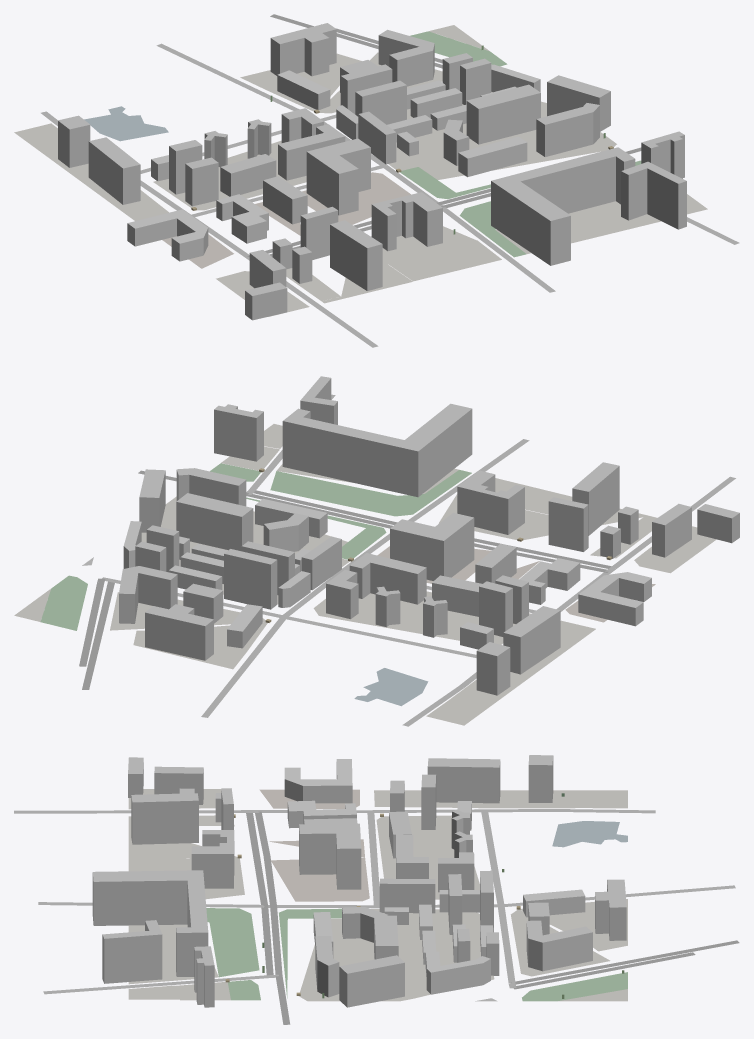
3 renders of one model, top to bottom at view 1: azimuth 30°, elevation 25°; view 2: azimuth 150°, elevation 25°; view 3: azimuth 270°, elevation 25°, orthographic. The views are drawn at different scales.
Size of the model in its own units: 589 by 52.2 by 727.
